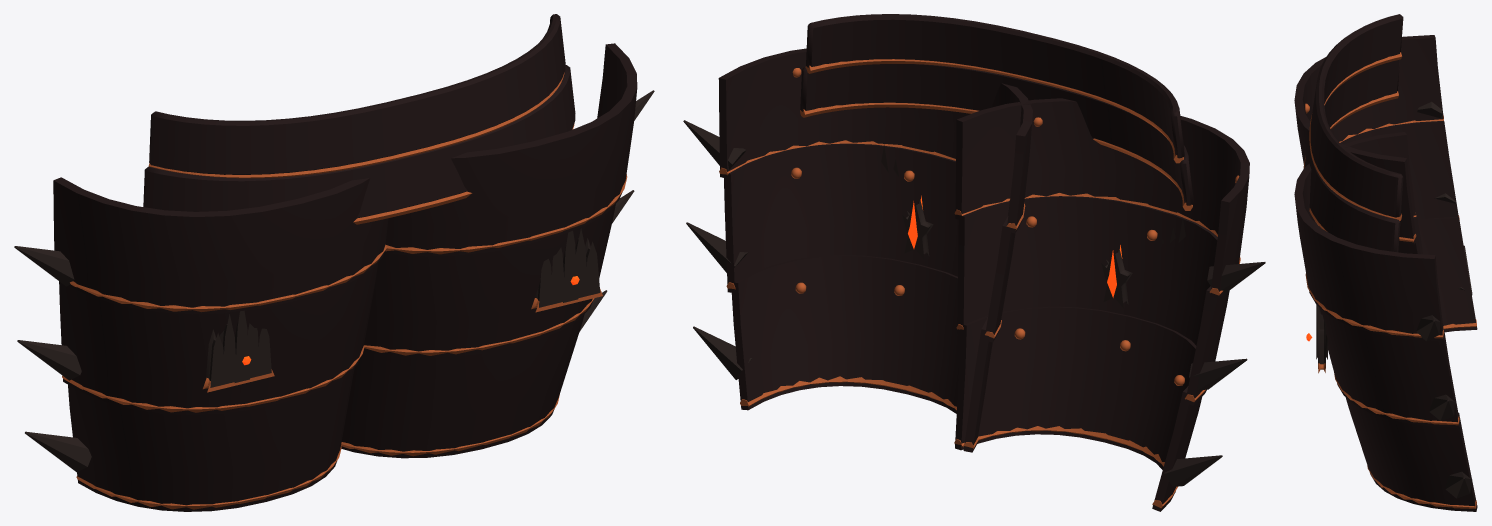
The model's file is asc_firstflame_warlord_leggings.glb.
3 renders of one model, left to right at view 1: azimuth 30°, elevation 25°; view 2: azimuth 150°, elevation 25°; view 3: azimuth 270°, elevation 25°, orthographic. The views are drawn at different scales.
Visible parts, largest first — view 1: AT_thigh_R, AT_thigh_L, asc_firstflame_warlord_leggings; view 2: AT_thigh_R, AT_thigh_L, asc_firstflame_warlord_leggings; view 3: AT_thigh_L, AT_thigh_R, asc_firstflame_warlord_leggings.
Part boxes in pixels (x1,y1,x2,y2): AT_thigh_R: (14, 177, 388, 511); AT_thigh_L: (341, 43, 654, 458); asc_firstflame_warlord_leggings: (143, 14, 575, 224); AT_thigh_R: (954, 98, 1265, 511); AT_thigh_L: (683, 48, 1032, 452); asc_firstflame_warlord_leggings: (800, 14, 1193, 307); AT_thigh_L: (1294, 132, 1477, 511); AT_thigh_R: (1294, 35, 1477, 332); asc_firstflame_warlord_leggings: (1303, 14, 1403, 252).
Size of the model in its own units: 0.5844 by 0.3481 by 0.177.
